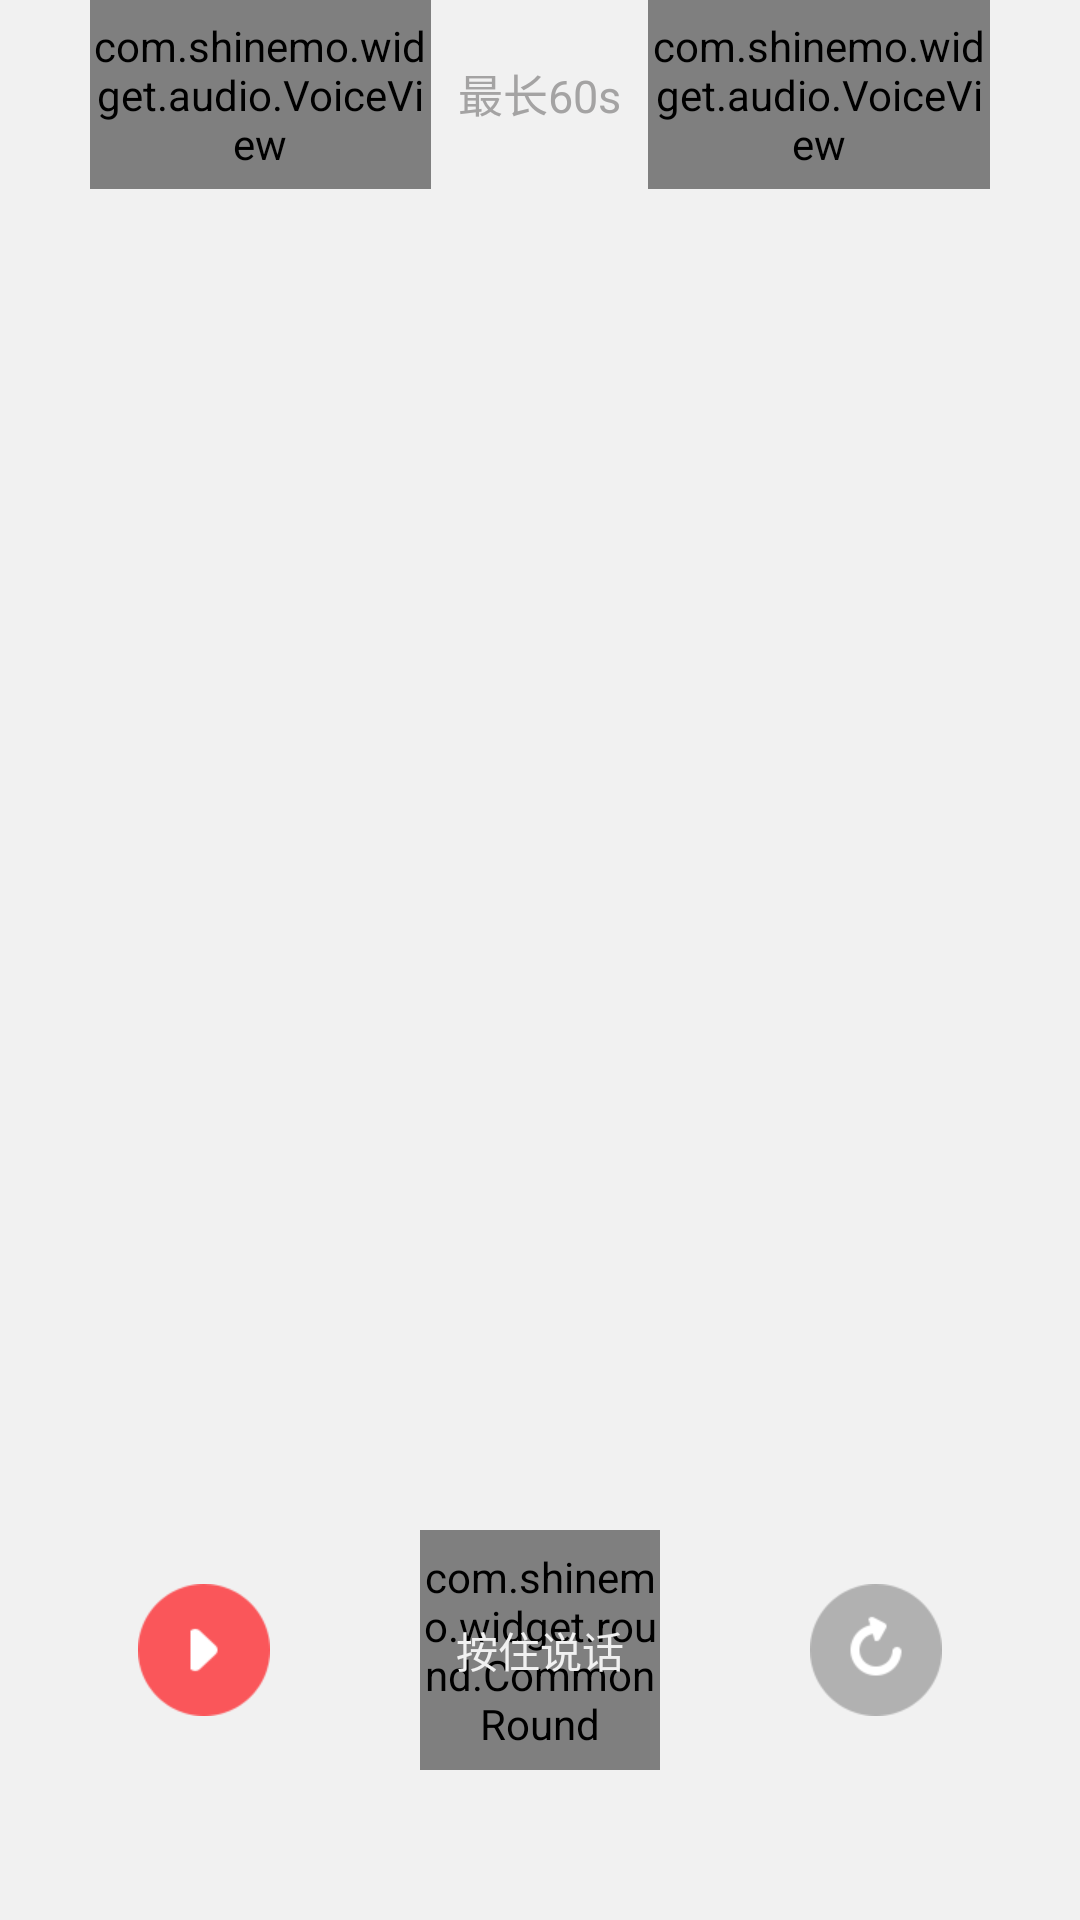

Icon click points for this 1080 × 1920 phone screenshot, format point (x, y):
yb yy st: point (204, 1650)
yb yy sx: point (876, 1650)
